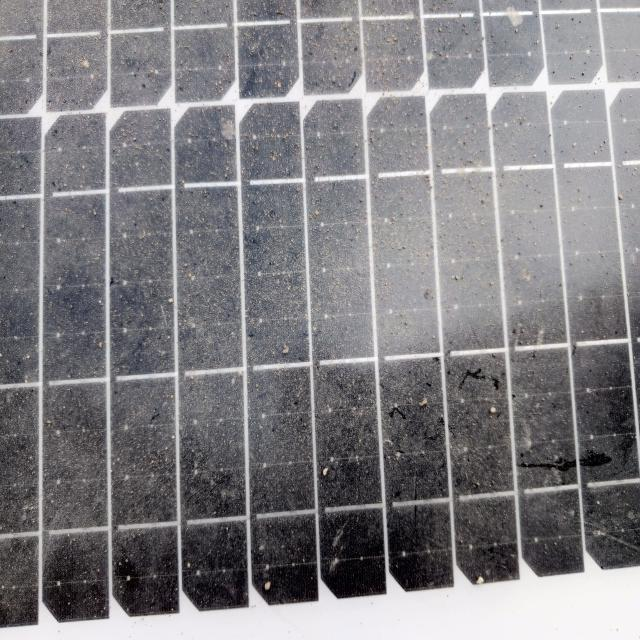Surface Contaminant: (78, 37, 639, 625)
